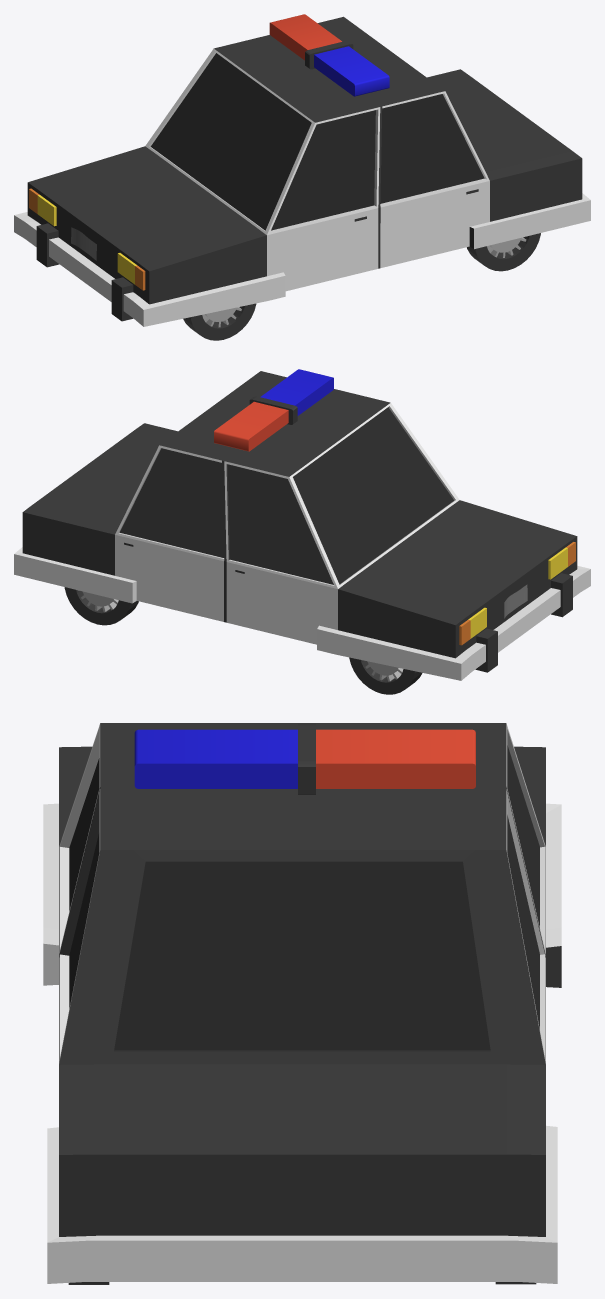
File: Police Car.fbx
3 views of the same model, one above another, from view 1: azimuth 30°, elevation 25°; view 2: azimuth 150°, elevation 25°; view 3: azimuth 270°, elevation 25° (orthographic). The views are drawn at different scales.
Parts seen in each view (by area): view 1: Cube.024, Cube.025, Tire.033, Tire.032, Cube.026, Cube.027, Cube.028, Cube.029, License Plate Front.016, Spoke.033; view 2: Cube.024, Cube.025, Tire.035, Tire.034, Cube.027, Cube.026, Cube.028, Cube.029, Spoke.034, Spoke.035; view 3: Cube.024, Cube.025.
Part boxes in pixels (x1=…): Cube.024: x1=14, y1=16, x2=590, y2=326; Cube.025: x1=269, y1=14, x2=389, y2=96; Tire.033: x1=183, y1=303, x2=256, y2=340; Tire.032: x1=467, y1=233, x2=540, y2=271; Cube.026: x1=36, y1=223, x2=59, y2=267; Cube.027: x1=111, y1=277, x2=133, y2=321; Cube.028: x1=117, y1=253, x2=145, y2=290; Cube.029: x1=29, y1=188, x2=56, y2=226; License Plate Front.016: x1=71, y1=227, x2=96, y2=260; Spoke.033: x1=202, y1=307, x2=241, y2=327; Cube.024: x1=14, y1=371, x2=590, y2=680; Cube.025: x1=214, y1=369, x2=333, y2=451; Tire.035: x1=64, y1=587, x2=138, y2=625; Tire.034: x1=349, y1=657, x2=422, y2=694; Cube.027: x1=551, y1=573, x2=572, y2=617; Cube.026: x1=475, y1=628, x2=497, y2=672; Cube.028: x1=548, y1=542, x2=575, y2=579; Cube.029: x1=459, y1=607, x2=486, y2=645; Spoke.034: x1=365, y1=661, x2=403, y2=681; Spoke.035: x1=78, y1=590, x2=118, y2=612; Cube.024: x1=43, y1=723, x2=561, y2=1283; Cube.025: x1=134, y1=723, x2=475, y2=794.
Bounding box in the file's own units: 381 × 169 × 190.
